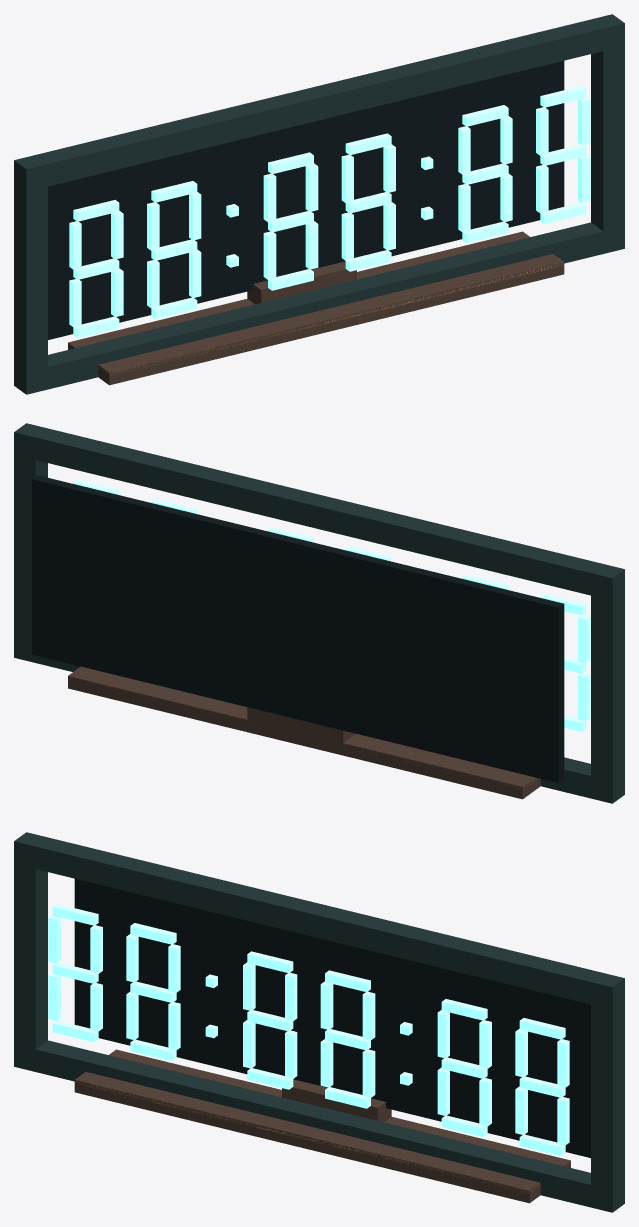
File: initial-digital-flat.glb
The picture shows the model from 3 angles, top to bottom: view 1: azimuth 30°, elevation 25°; view 2: azimuth 150°, elevation 25°; view 3: azimuth 330°, elevation 25°; orthographic projection.
Visible parts, largest first — view 1: digital-display-back, digital-frame-top, digital-frame-bottom, clock-base, digital-frame-left, digital-frame-right, clock-display-support, clock-base-trim, clock-digit-3-f, clock-digit-3-e, clock-digit-3-b, clock-digit-3-c (+38 smaller); view 2: digital-display-back, digital-frame-top, clock-base, digital-frame-left, digital-frame-right, digital-frame-bottom, clock-display-support, clock-digit-1-f, clock-digit-1-e; view 3: digital-display-back, digital-frame-top, digital-frame-bottom, clock-base, digital-frame-right, digital-frame-left, clock-display-support, clock-base-trim, clock-digit-4-b, clock-digit-4-c, clock-digit-4-f, clock-digit-4-e (+38 smaller).
Part boxes in pixels (x1,y1,x2,y2): digital-display-back: [48, 61, 564, 339]; digital-frame-top: [14, 14, 624, 191]; digital-frame-bottom: [14, 222, 624, 394]; clock-base: [68, 231, 564, 385]; digital-frame-left: [14, 183, 47, 372]; digital-frame-right: [591, 46, 624, 231]; clock-display-support: [247, 261, 356, 304]; clock-base-trim: [70, 262, 563, 375]; clock-digit-3-f: [263, 173, 276, 222]; clock-digit-3-e: [263, 231, 276, 279]; clock-digit-3-b: [305, 163, 318, 211]; clock-digit-3-c: [305, 221, 318, 269]; digital-display-back: [32, 475, 564, 782]; digital-frame-top: [14, 423, 624, 600]; clock-base: [68, 666, 540, 799]; digital-frame-left: [591, 592, 624, 781]; digital-frame-right: [14, 455, 47, 639]; digital-frame-bottom: [14, 635, 624, 803]; clock-display-support: [247, 707, 355, 749]; clock-digit-1-f: [578, 615, 590, 663]; clock-digit-1-e: [578, 673, 590, 720]; digital-display-back: [74, 879, 590, 1157]; digital-frame-top: [14, 832, 624, 1009]; digital-frame-bottom: [14, 1040, 624, 1212]; clock-base: [74, 1049, 570, 1203]; digital-frame-right: [591, 1001, 624, 1190]; digital-frame-left: [14, 864, 47, 1049]; clock-display-support: [282, 1079, 391, 1122]; clock-base-trim: [76, 1081, 567, 1193]; clock-digit-4-b: [362, 991, 375, 1040]; clock-digit-4-c: [362, 1049, 375, 1097]; clock-digit-4-f: [320, 981, 333, 1029]; clock-digit-4-e: [320, 1039, 333, 1087].
Bounding box in the file's own units: 0.5 × 0.18 × 0.06.
